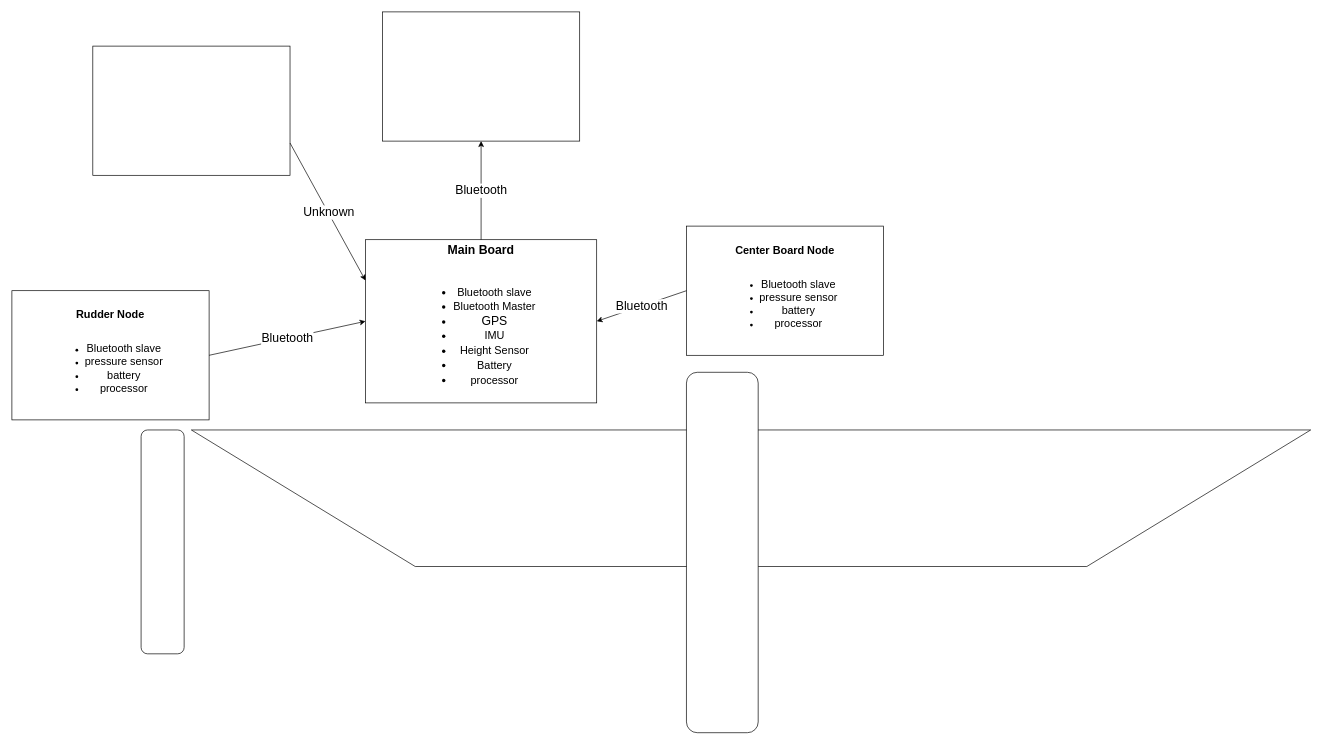
Image size: 1323x745. Some labels were removed from this diagram. The centre of each missing label's shape, as x and y in pixels:
Android Phone Bluetooth Master Log statistic Settings GUI while sailing: the point at 481,76
DGPS Station Unknown: the point at 191,110
